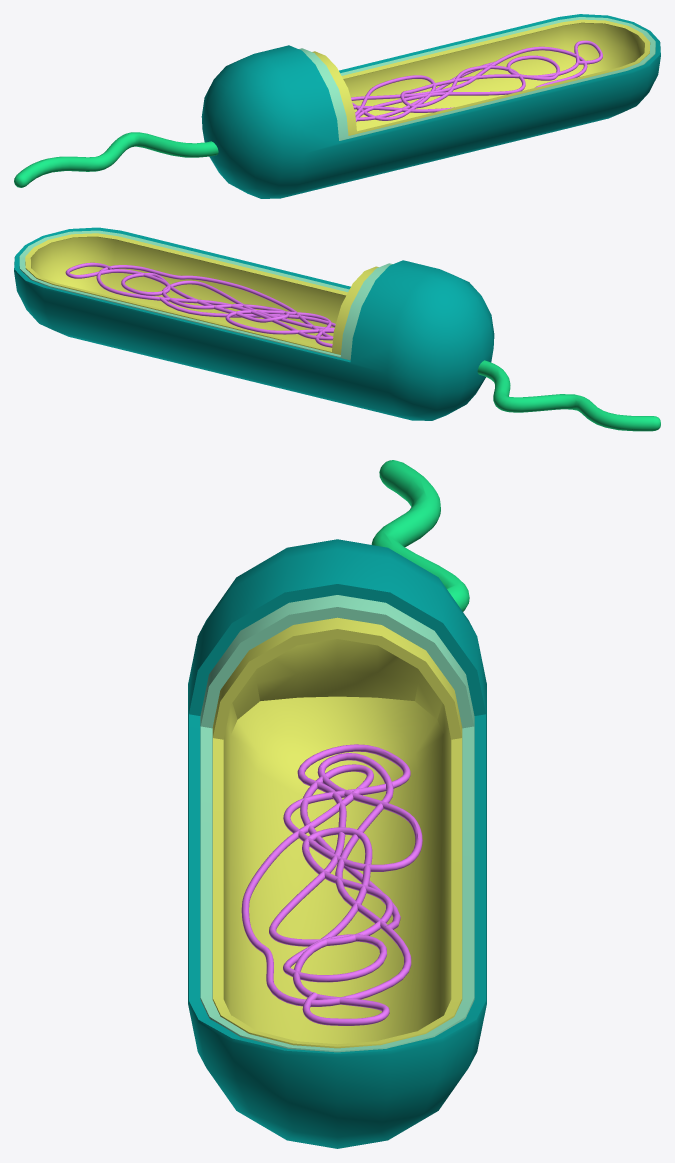
The model's file is SANTIAGO_AMORES_CEL.LULA_PROCARIOTA.fbx.
The picture shows the model from 3 angles, top to bottom: view 1: azimuth 30°, elevation 25°; view 2: azimuth 150°, elevation 25°; view 3: azimuth 270°, elevation 25°; orthographic projection. The views are drawn at different scales.
Visible parts, largest first — view 1: CÁPSULA, MEMBRANA CELULAR, CUERDECITA, PARED CELULAR, Cola; view 2: CÁPSULA, MEMBRANA CELULAR, CUERDECITA, PARED CELULAR, Cola; view 3: MEMBRANA CELULAR, CÁPSULA, CUERDECITA, PARED CELULAR, Cola.
Boxes of the visible parts, x1,y1,x2,y2 form: CÁPSULA: [201, 14, 660, 198]; MEMBRANA CELULAR: [312, 19, 650, 135]; CUERDECITA: [351, 40, 602, 121]; PARED CELULAR: [299, 17, 655, 140]; Cola: [14, 132, 218, 187]; CÁPSULA: [14, 227, 494, 420]; MEMBRANA CELULAR: [25, 233, 378, 354]; CUERDECITA: [65, 262, 335, 347]; PARED CELULAR: [19, 230, 392, 360]; Cola: [477, 360, 660, 431]; MEMBRANA CELULAR: [212, 617, 462, 1048]; CÁPSULA: [188, 539, 486, 1148]; CUERDECITA: [241, 744, 422, 1025]; PARED CELULAR: [200, 595, 474, 1052]; Cola: [371, 460, 469, 611].
Bounding box in the file's own units: 210 × 43.39 × 43.78.
